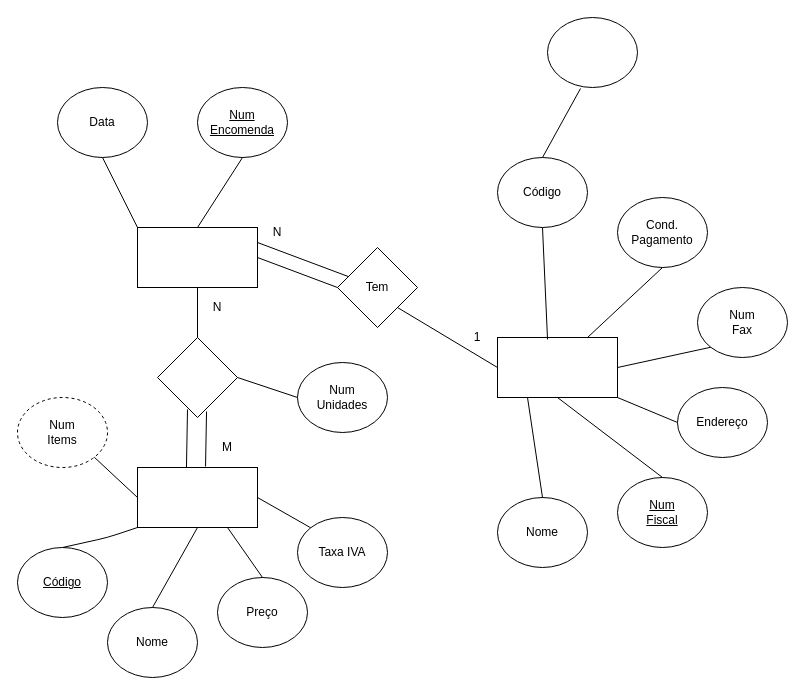
Some shapes in this 805 by 695 pixel diagram are drawn without their labels. The box of each missing label's shape, as (x1, y1, x2, y2) in pixels:
Designacao: (546, 16, 638, 88)
Encomenda: (136, 226, 258, 288)
Fornecedor: (496, 336, 618, 398)
Item: (156, 336, 238, 418)
Produto: (136, 466, 258, 528)
